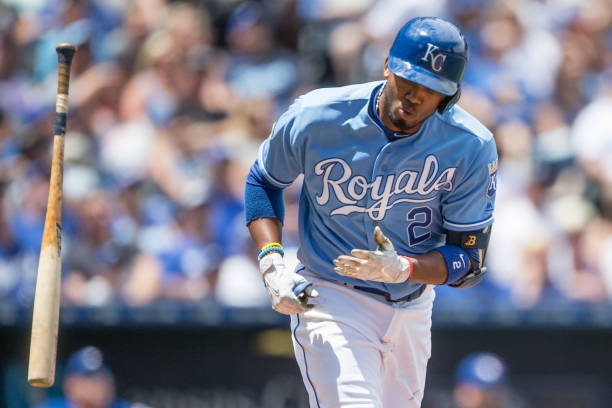bita: (20, 42, 77, 389)
